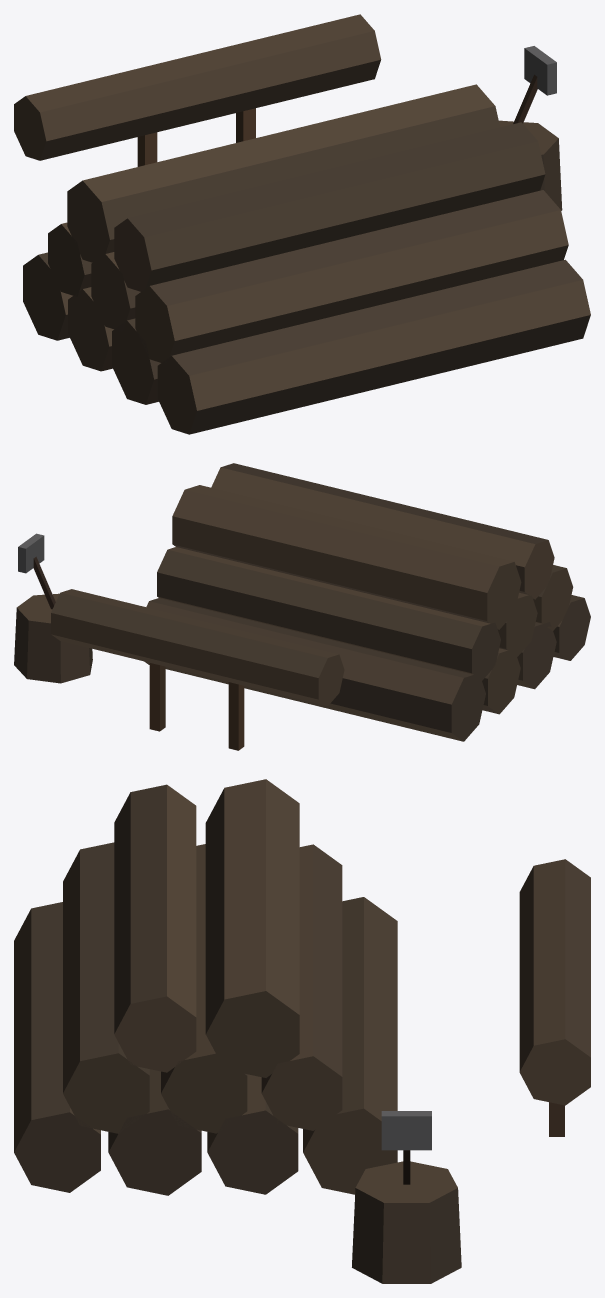
File: yard_lumber.glb
3 renders of one model, top to bottom at view 1: azimuth 30°, elevation 25°; view 2: azimuth 150°, elevation 25°; view 3: azimuth 270°, elevation 25°, orthographic. The views are drawn at different scales.
Parts seen in each view (by area): view 1: yard_lumber; view 2: yard_lumber; view 3: yard_lumber.
Part boxes in pixels (x1=…): yard_lumber: x1=14, y1=14, x2=590, y2=434; yard_lumber: x1=14, y1=463, x2=590, y2=750; yard_lumber: x1=14, y1=779, x2=590, y2=1283.
Size of the model in its own units: 5.41 by 1.92 by 4.61.
Materials: 2 (2 with a texture image).
